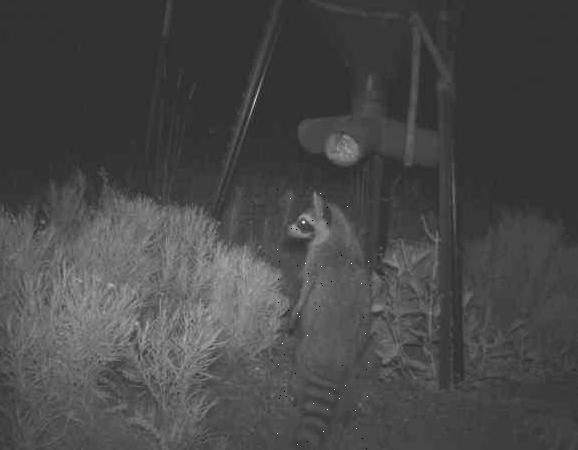Raccoon: (275, 186, 375, 450)
